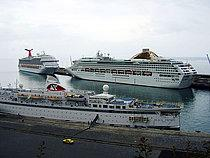Ship: (65, 48, 202, 93), (18, 45, 67, 78)
